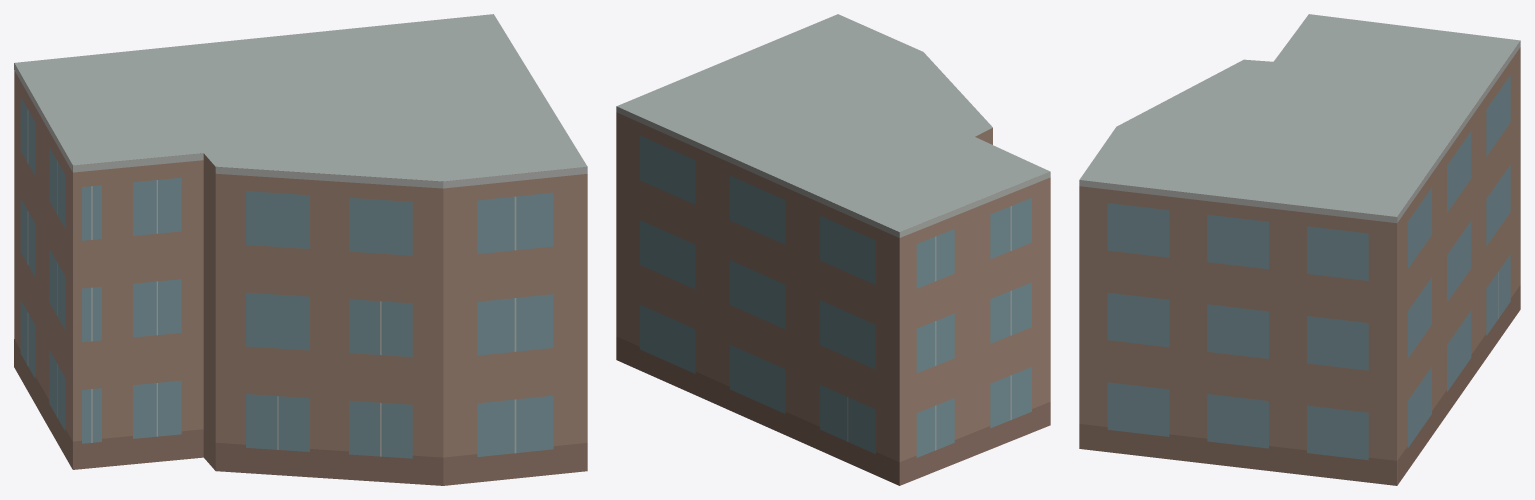
The model's file is survey-upis-32968873.glb.
3 renders of one model, left to right at view 1: azimuth 30°, elevation 25°; view 2: azimuth 150°, elevation 25°; view 3: azimuth 270°, elevation 25°, orthographic. The views are drawn at different scales.
Parts seen in each view (by area): view 1: survey-upis-32968873.tmp; view 2: survey-upis-32968873.tmp; view 3: survey-upis-32968873.tmp.
Boxes of the visible parts, box(x1,y1,x2,y2) form: survey-upis-32968873.tmp: box(14, 14, 587, 485); survey-upis-32968873.tmp: box(616, 14, 1050, 485); survey-upis-32968873.tmp: box(1079, 14, 1520, 485).
Size of the model in its own units: 17.01 by 10.5 by 15.63.
